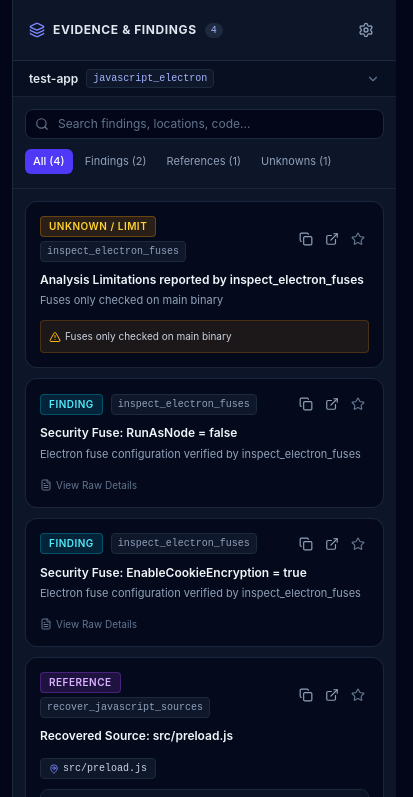
EvidencePane Component › dynamically filters items using the search input
Type "CookieEncryption" into the field with test id "evidence-search-input".
click(204, 124); type("CookieEncryption")  # box [25,109,384,139]
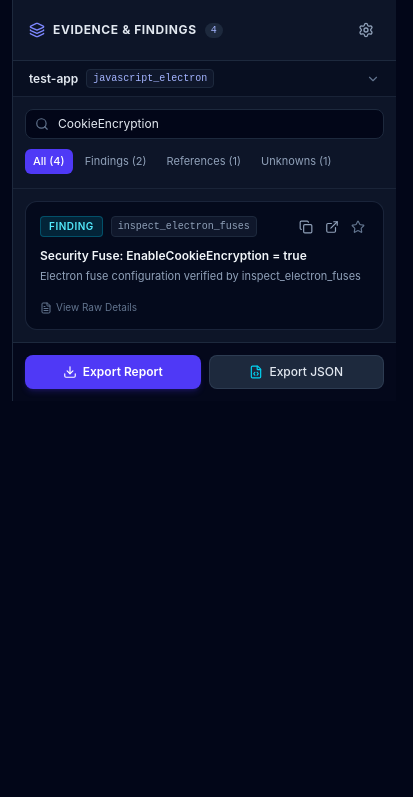
Expected: the heading "Security Fuse: EnableCookieEncryption = true" is shown, [40,248,307,263]
Now the heading "Security Fuse: RunAsNode = false" is gone
